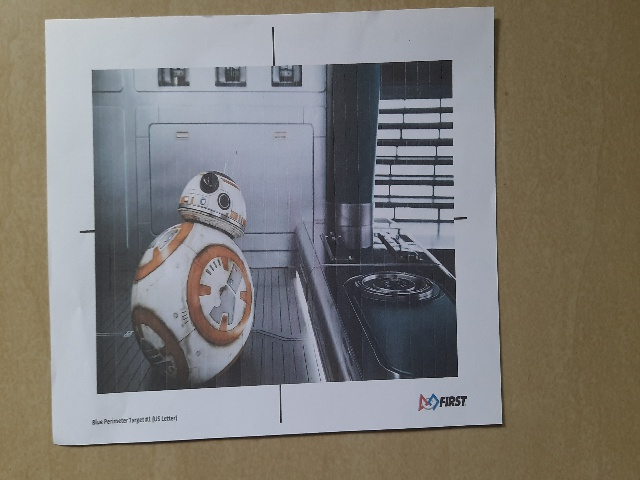bpt1: (58, 35, 491, 428)
